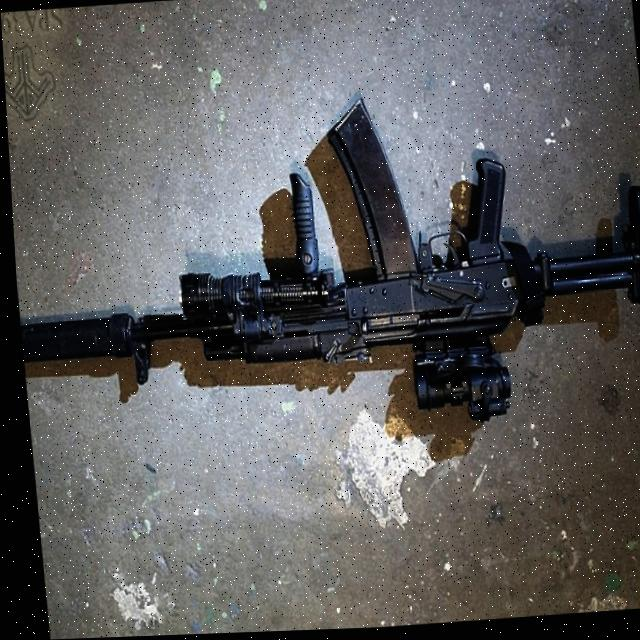firearm: (4, 75, 640, 455)
